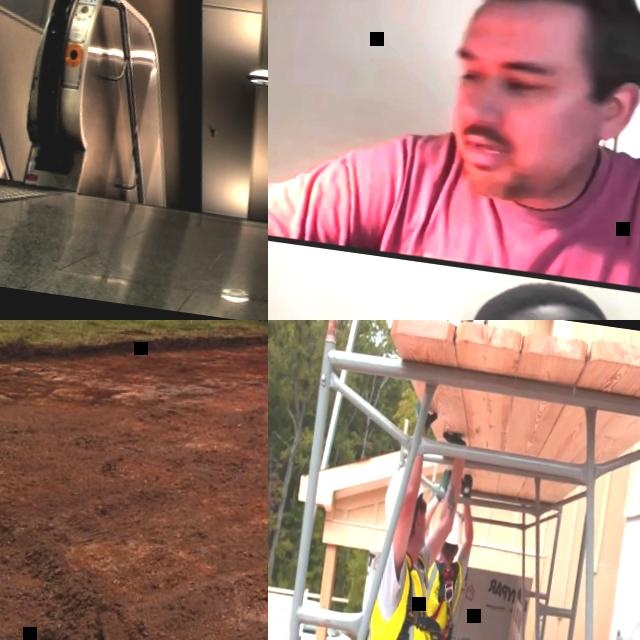Hardhat: (380, 465, 428, 535), (442, 511, 465, 546)
NO-Hardhat: (463, 0, 640, 57), (467, 272, 633, 320)
NO-Mask: (445, 122, 584, 214), (411, 505, 430, 548)
NO-Safety Vest: (367, 124, 640, 296)
Person: (268, 0, 640, 317), (322, 401, 474, 640), (268, 248, 640, 320), (378, 465, 484, 640)
Safety Vest: (352, 547, 451, 640), (413, 552, 465, 640)
vehicle: (268, 577, 360, 640)
